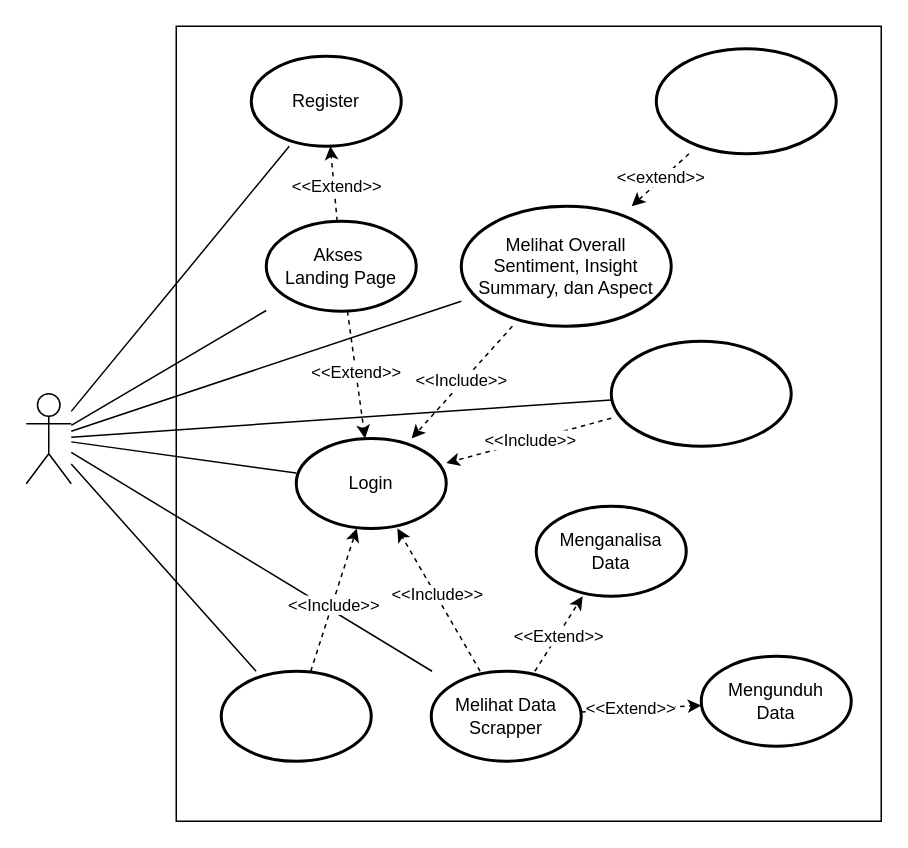
The diagram is 908 pixels wide and 848 high, and some of its shapes have lost their labels. Here are the shapes that lost their labels. From the top down, the box of each, then its label:
(654, 46, 837, 154): Berinteraksi dengan Chatbot
(609, 339, 792, 447): Melihat Sentiment
(25, 392, 71, 484): User
(219, 669, 372, 762): Melihat Rekomendasi Konten
